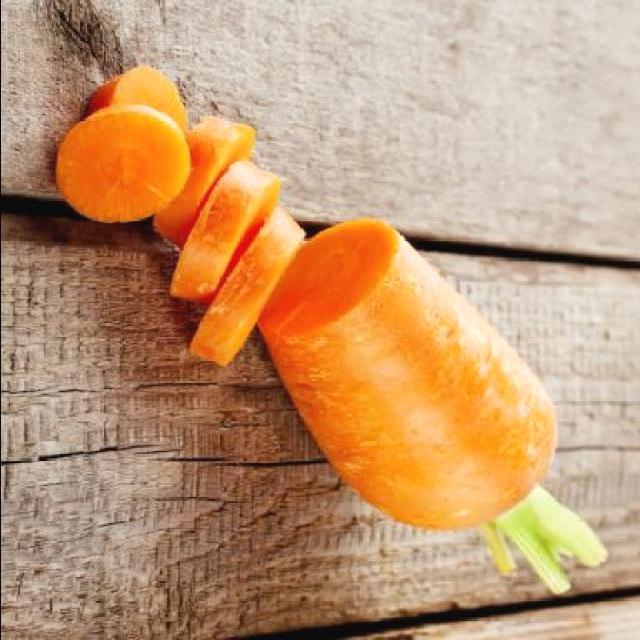carrot: (261, 219, 607, 599)
